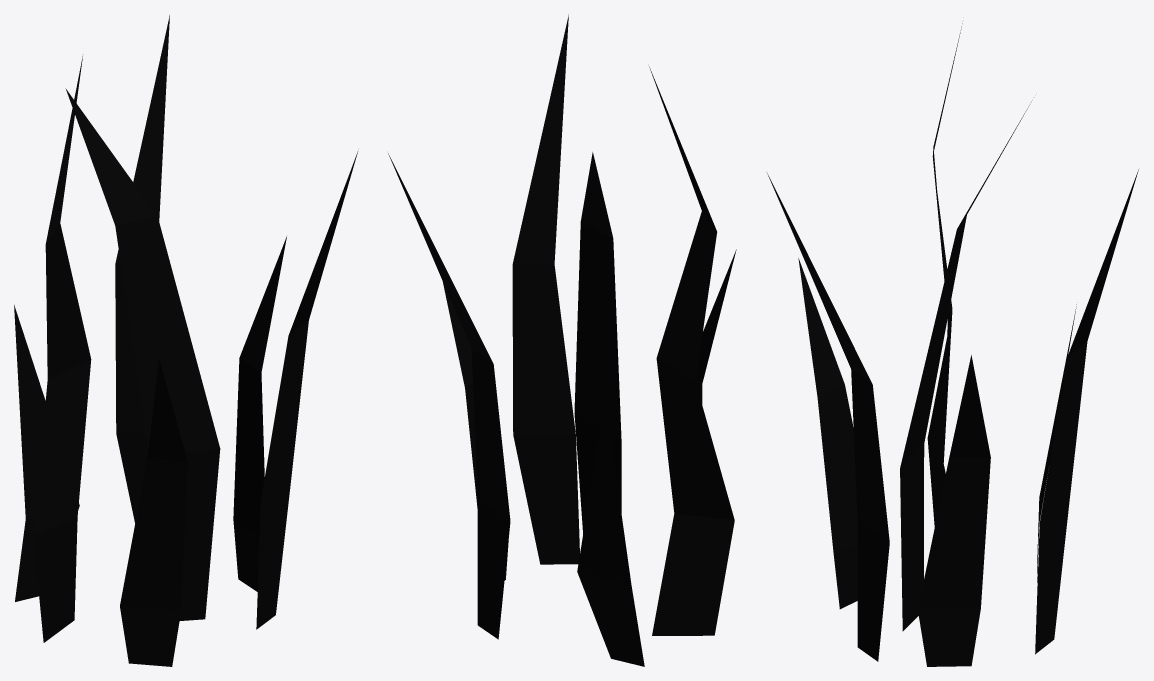
File: grass_flat_dark.fbx
3 renders of one model, left to right at view 1: azimuth 30°, elevation 25°; view 2: azimuth 150°, elevation 25°; view 3: azimuth 270°, elevation 25°, orthographic.
Parts seen in each view (by area): view 1: Plane.011; view 2: Plane.011; view 3: Plane.011.
Part boxes in pixels (box(x1,y1,x2,y2)): Plane.011: box(14, 15, 357, 666); Plane.011: box(388, 14, 736, 666); Plane.011: box(767, 23, 1138, 666).
Bounding box in the file's own units: 11.39 × 22.74 × 13.24.
